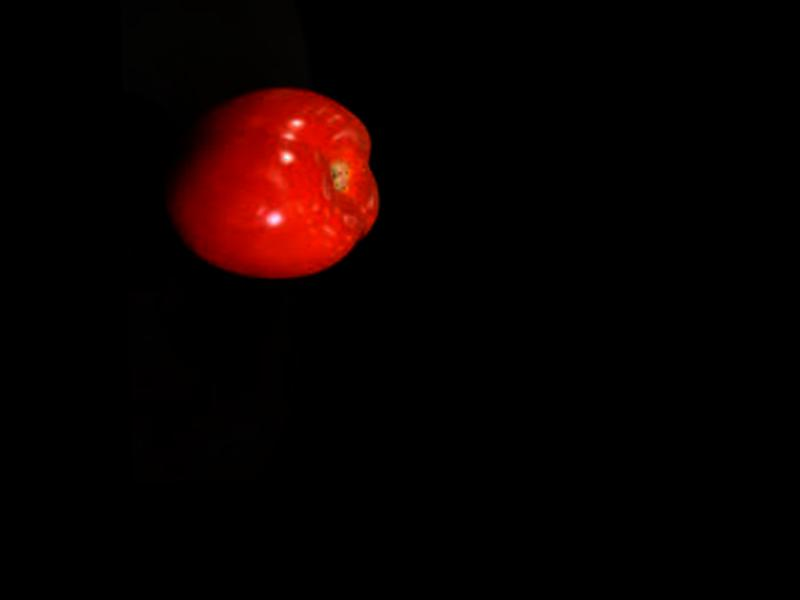Tomato: (165, 85, 382, 284)
